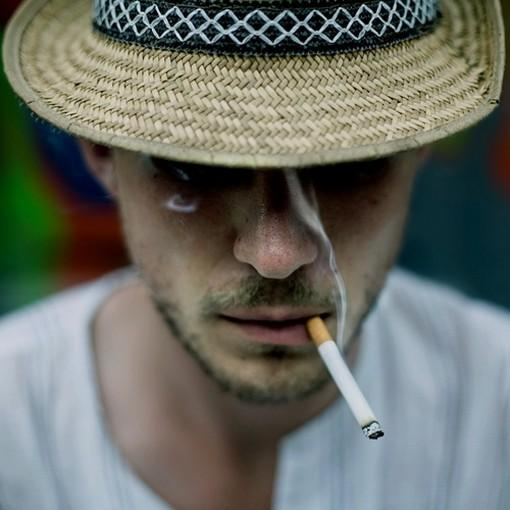smoke: (300, 312, 387, 441)
